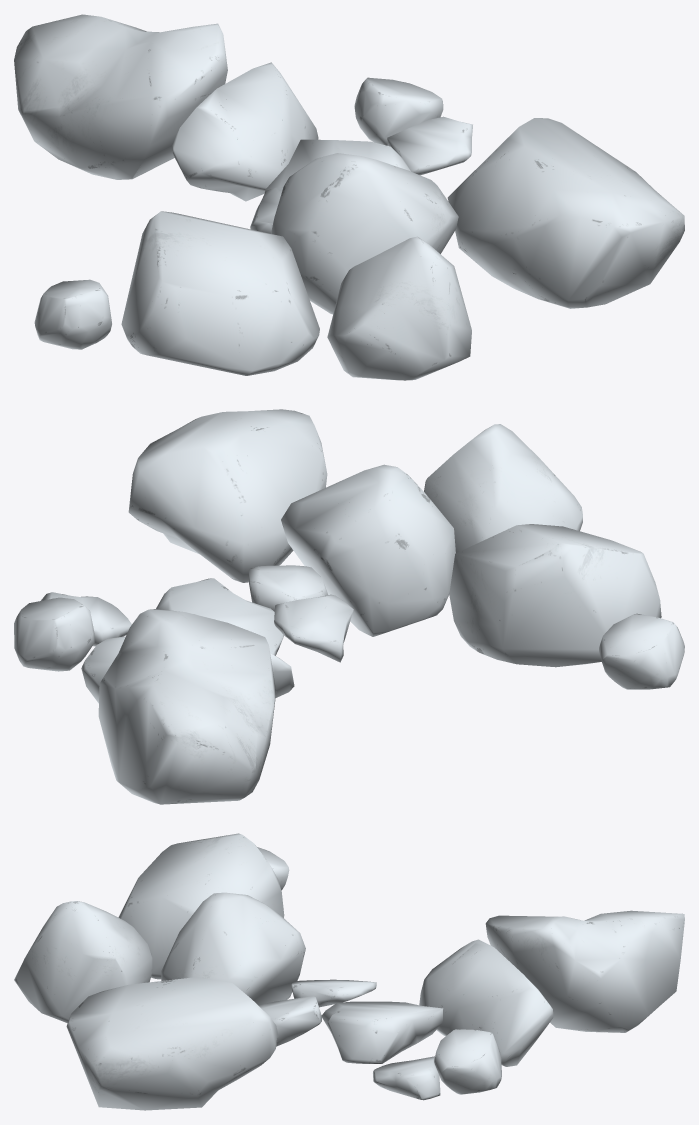
File: Ice_Chunks_Scatter_Composite_001.fbx
The picture shows the model from 3 angles, top to bottom: view 1: azimuth 30°, elevation 25°; view 2: azimuth 150°, elevation 25°; view 3: azimuth 270°, elevation 25°; orthographic projection. The views are drawn at different scales.
Visible parts, largest first — view 1: Ice_Chunks_Scatter_Composite_001_LOD0; view 2: Ice_Chunks_Scatter_Composite_001_LOD0; view 3: Ice_Chunks_Scatter_Composite_001_LOD0.
Boxes of the visible parts, x1=… form: Ice_Chunks_Scatter_Composite_001_LOD0: x1=14, y1=14, x2=684, y2=380; Ice_Chunks_Scatter_Composite_001_LOD0: x1=14, y1=409, x2=684, y2=804; Ice_Chunks_Scatter_Composite_001_LOD0: x1=14, y1=833, x2=684, y2=1110.
Size of what is drawn, in the model's own units: 7.79 by 2.02 by 9.22.
Materials: 1 (1 with a texture image).
